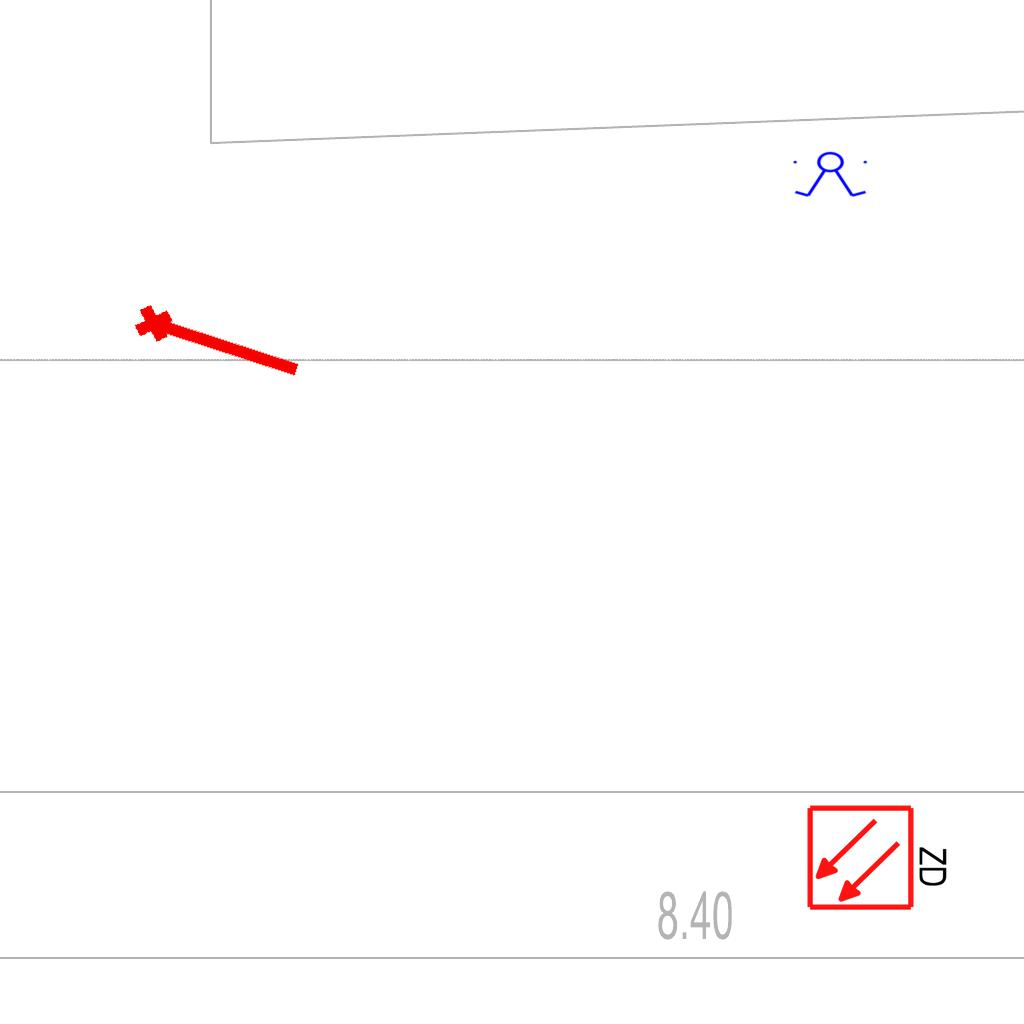ASR_Ansaugoeffnung: (128, 292, 310, 392)
Serienschalter: (789, 151, 873, 199)
ZD_Melder_in_Zwischendecke_mit_Revisionsoeffnung_mind_40_x_40_cm: (805, 799, 954, 913)
